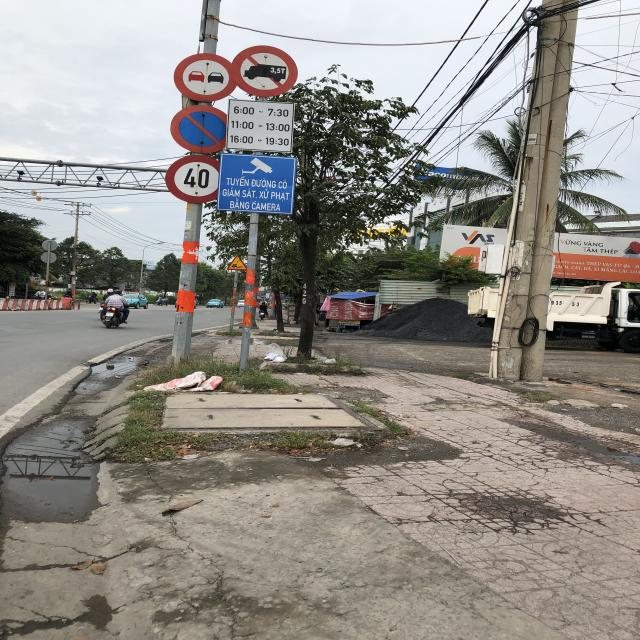Bien bao cam vuot: (168, 52, 236, 103)
